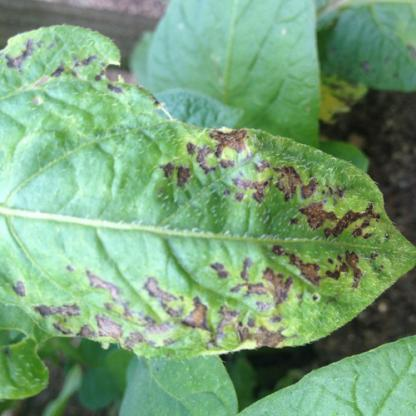potato leaf early blight: (1, 26, 415, 364)
